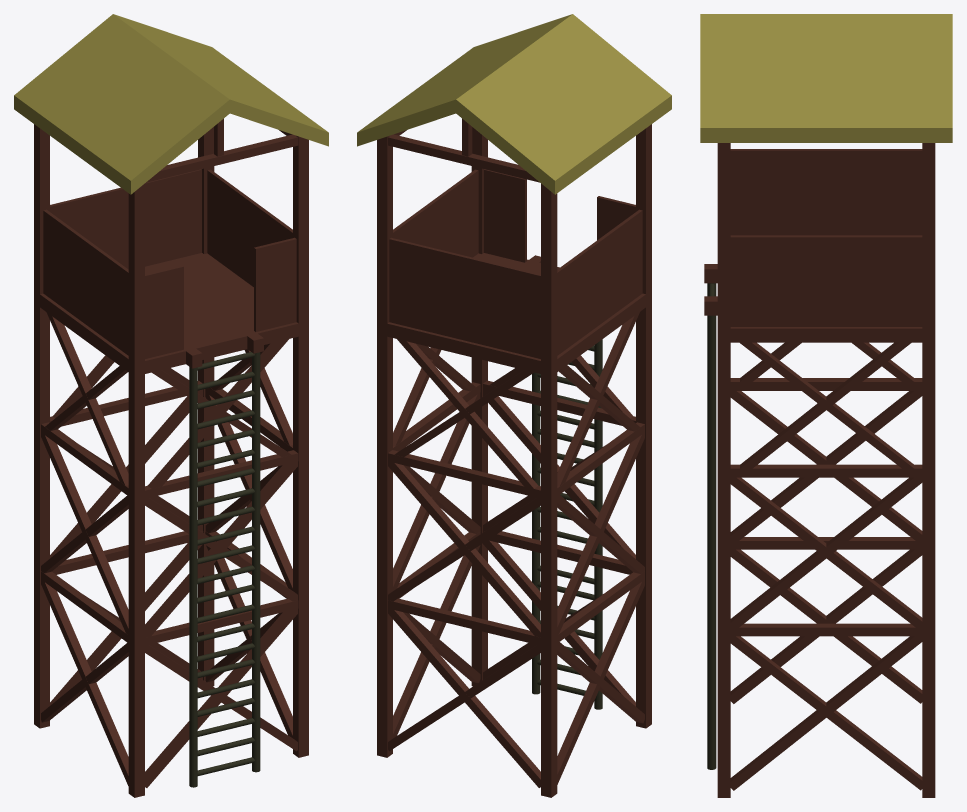
Rendered from TORRE VIGIA LOD.fbx.
3 views of the same model, side by side, from view 1: azimuth 30°, elevation 25°; view 2: azimuth 150°, elevation 25°; view 3: azimuth 270°, elevation 25° (orthographic). The views are drawn at different scales.
Visible parts, largest first — view 1: TORRE_LOD0; view 2: TORRE_LOD0; view 3: TORRE_LOD0.
Part boxes in pixels (<box>): TORRE_LOD0: <box>14,14,328,797</box>; TORRE_LOD0: <box>357,14,671,797</box>; TORRE_LOD0: <box>700,14,952,797</box>.
Size of what is drawn, in the model's own units: 506 by 1668 by 517.
